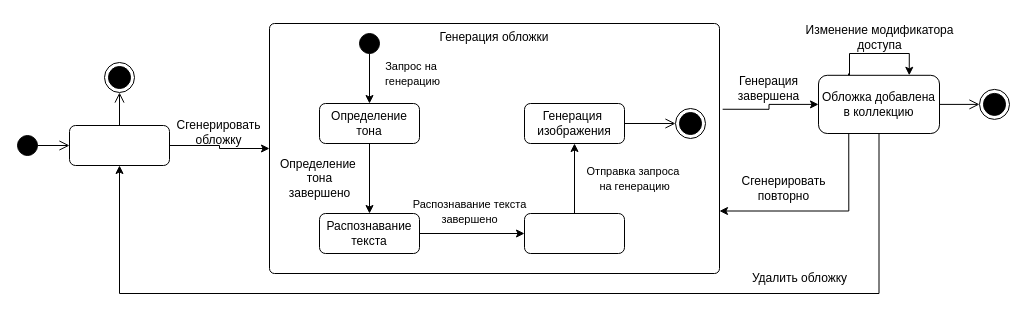
Image size: 1027x319. Some labels were removed from this diagram. Here are the shapes that lost their labels. From the top down, the box of each, then its label:
(68, 124, 170, 166): Обложки нет
(524, 212, 624, 254): Формирование запроса
